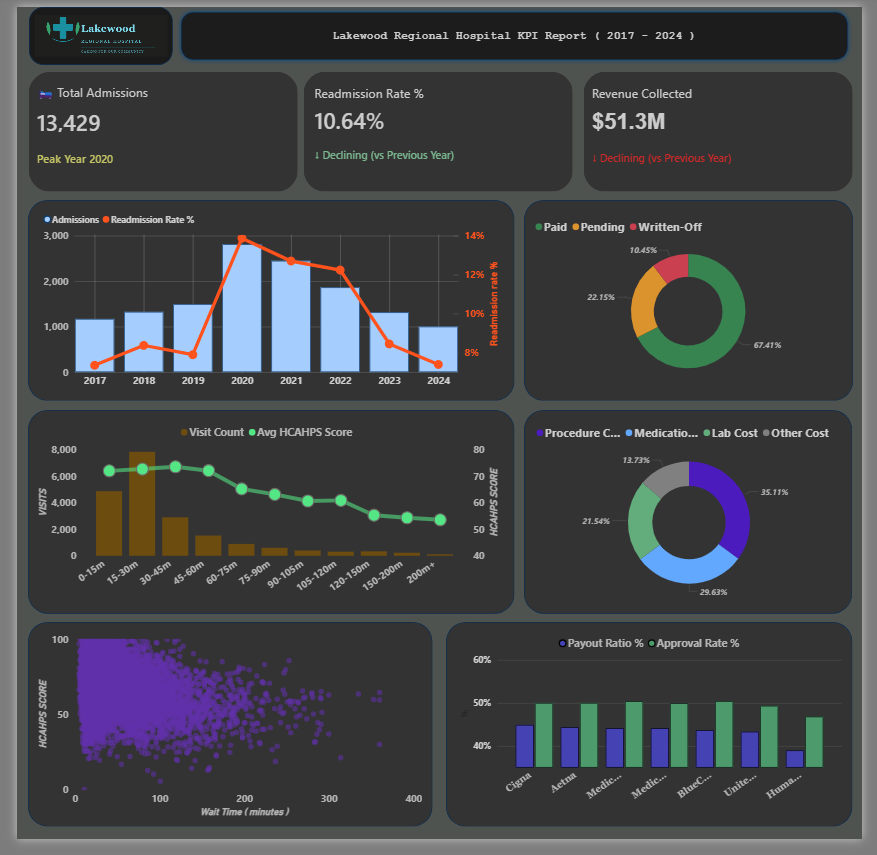

What the dashboard file says about the page in this screenshot:
{"tool":"powerbi","page":{"name":"final","canvas":[1280,1260],"ordinal":7},"visuals":[{"type":"shape","box":[241.1,0,1025.6,87.8],"z":0},{"type":"group","id":"g1","title":"Group 1","box":[17.8,0,217.8,87.8],"z":1000},{"type":"shape","box":[17.8,0,217.8,87.8],"z":1000,"group":"g1"},{"type":"image","box":[26.2,12.4,200.9,63],"z":2000,"group":"g1"},{"type":"cardVisual","fields":{"Data":["admission_c.Admissions"]},"box":[17.8,97.8,407.8,181.1],"z":2000},{"type":"cardVisual","fields":{"Data":["billing_and_costs_c.Revenue Collected"]},"box":[858.9,97.8,407.8,181.1],"z":3000},{"type":"cardVisual","fields":{"Data":["admission_c.Readmission Rate %"]},"box":[435.6,97.8,407.8,181.1],"z":4000},{"type":"group","id":"g2","title":"Group 2","box":[17.1,292.9,737.1,304.3],"z":5000},{"type":"shape","box":[17.1,292.9,737.1,304.3],"z":5000,"group":"g2"},{"type":"shape","box":[768.6,292.9,498.6,304.3],"z":5502,"group":"g3"},{"type":"group","id":"g3","title":"Group 3","box":[768.6,292.9,498.6,304.3],"z":6000},{"type":"lineClusteredColumnComboChart","title":"ADMISSION VOLUME & READMISSION RATE BY YEAR","fields":{"Category":["admission_c.Year"],"Y":["admission_c.Admissions"],"Y2":["admission_c.Readmission Rate %"]},"box":[34.9,302,699.3,286],"z":6000,"group":"g2"},{"type":"donutChart","fields":{"Category":["billing_and_costs_c.payment_status"],"Y":["CountNonNull(billing_and_costs_c.billing_id)"]},"box":[779.7,311.2,476.3,267.8],"z":6003,"group":"g3"},{"type":"shape","box":[650,931.4,615.7,310],"z":6500,"group":"g7"},{"type":"group","id":"g4","title":"Group 4","box":[17.1,610,737.1,308.6],"z":7000},{"type":"shape","box":[17.1,610,737.1,308.6],"z":7000,"group":"g4"},{"type":"shape","box":[768.6,610,497.1,308.6],"z":7000,"group":"g5"},{"type":"lineClusteredColumnComboChart","fields":{"Category":["visits_and_wait_time_c.Wait Time Bucket"],"Y":["visits_and_wait_time_c.Visit Count"],"Y2":["visits_and_wait_time_c.Avg HCAHPS Score"]},"box":[25.7,621.9,708.6,284.7],"z":7501,"group":"g4"},{"type":"donutChart","fields":{"Y":["billing_and_costs_c.Procedure Cost","billing_and_costs_c.Medication Cost","billing_and_costs_c.Lab Cost","billing_and_costs_c.Other Cost"]},"box":[780,621.4,475.7,284.3],"z":7503,"group":"g5"},{"type":"shape","box":[17.1,931.4,612.9,310],"z":8000,"group":"g6"},{"type":"group","id":"g5","title":"Group 5","box":[768.6,610,497.1,308.6],"z":9000},{"type":"group","id":"g6","title":"Group 6","box":[17.1,931.4,612.9,310],"z":10000},{"type":"scatterChart","fields":{"X":["visits_and_wait_time_c.Wait Time Minutes"],"Y":["Sum(visits_and_wait_time_c.hcahps_score)"],"Category":["visits_and_wait_time_c.visit_id"]},"box":[25.7,941.4,592.9,290],"z":11000,"group":"g6"},{"type":"clusteredColumnChart","fields":{"Category":["insurance_claims_c.insurer_name"],"Y":["insurance_claims_c.Payout Ratio %","insurance_claims_c.Approval Rate %"]},"box":[665,941.6,590,290],"z":11000,"group":"g7"},{"type":"group","id":"g7","title":"Group 7","box":[650,931.4,615.7,310],"z":11001}]}

Visuals, with their boxes in screenshot pixels (x1, y1, x2, y2), scaled from the page's 1280x1260 canvas onto the 877x855 screenshot:
shape: x1=165 y1=0 x2=868 y2=60
"Group 1" group: x1=12 y1=0 x2=161 y2=60
shape: x1=12 y1=0 x2=161 y2=60
image: x1=18 y1=8 x2=156 y2=51
cardVisual - admission_c.Admissions: x1=12 y1=66 x2=292 y2=189
cardVisual - billing_and_costs_c.Revenue Collected: x1=588 y1=66 x2=868 y2=189
cardVisual - admission_c.Readmission Rate %: x1=298 y1=66 x2=578 y2=189
"Group 2" group: x1=12 y1=199 x2=517 y2=405
shape: x1=12 y1=199 x2=517 y2=405
shape: x1=527 y1=199 x2=868 y2=405
"Group 3" group: x1=527 y1=199 x2=868 y2=405
"ADMISSION VOLUME & READMISSION RATE BY YEAR" lineClusteredColumnComboChart: x1=24 y1=205 x2=503 y2=399
donutChart - billing_and_costs_c.payment_status x CountNonNull(billing_and_costs_c.billing_id): x1=534 y1=211 x2=861 y2=393
shape: x1=445 y1=632 x2=867 y2=842
"Group 4" group: x1=12 y1=414 x2=517 y2=623
shape: x1=12 y1=414 x2=517 y2=623
shape: x1=527 y1=414 x2=867 y2=623
lineClusteredColumnComboChart - visits_and_wait_time_c.Wait Time Bucket x visits_and_wait_time_c.Visit Count: x1=18 y1=422 x2=503 y2=615
donutChart - billing_and_costs_c.Procedure Cost x billing_and_costs_c.Medication Cost: x1=534 y1=422 x2=860 y2=615
shape: x1=12 y1=632 x2=432 y2=842
"Group 5" group: x1=527 y1=414 x2=867 y2=623
"Group 6" group: x1=12 y1=632 x2=432 y2=842
scatterChart - visits_and_wait_time_c.Wait Time Minutes x Sum(visits_and_wait_time_c.hcahps_score): x1=18 y1=639 x2=424 y2=836
clusteredColumnChart - insurance_claims_c.insurer_name x insurance_claims_c.Payout Ratio %: x1=456 y1=639 x2=860 y2=836
"Group 7" group: x1=445 y1=632 x2=867 y2=842
